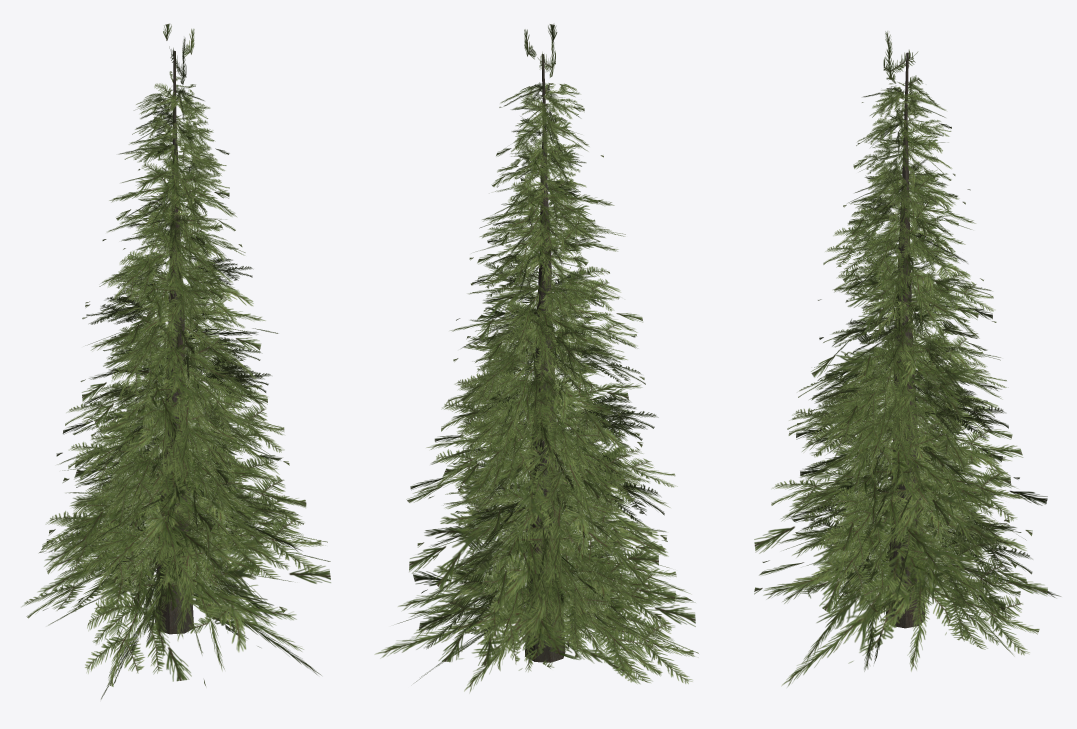
Rendered from prop_tree_fir_c.glb.
3 renders of one model, left to right at view 1: azimuth 30°, elevation 25°; view 2: azimuth 150°, elevation 25°; view 3: azimuth 270°, elevation 25°, orthographic. The views are drawn at different scales.
Parts seen in each view (by area): view 1: conifer_fir_66; view 2: conifer_fir_66; view 3: conifer_fir_66.
Part boxes in pixels (left/top/right/bottom): conifer_fir_66: left=22, top=23, right=330, bottom=699; conifer_fir_66: left=374, top=24, right=698, bottom=692; conifer_fir_66: left=754, top=31, right=1060, bottom=686.
Size of the model in its own units: 5.43 by 11.86 by 5.46.
Materials: 2 (2 with a texture image).
